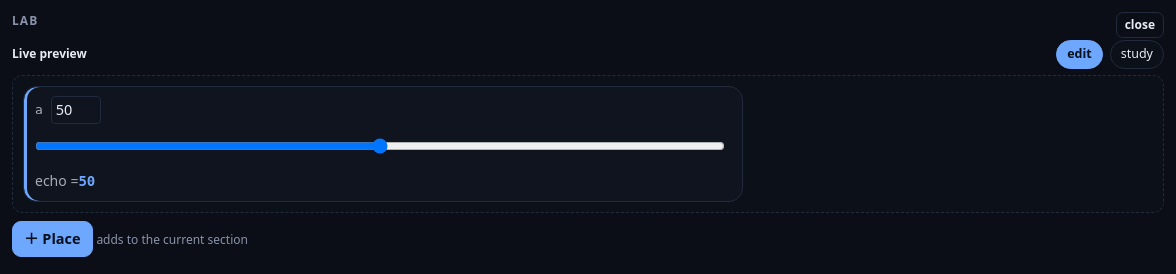
ProductDetail › the study preview is live: dragging a slider updates a dependent compute
Click the button "study": point(1137, 54) [1110, 40, 1164, 69]
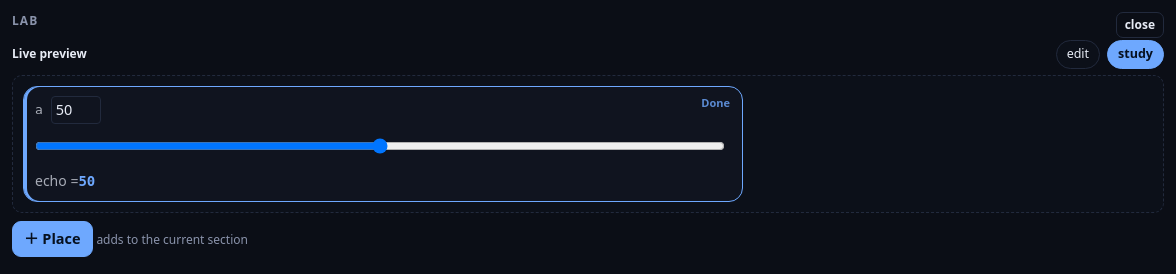
Expected: the text "50" is shown, [78, 172, 95, 188]
Set the slider to "80": point(582, 146) [35, 130, 725, 162]
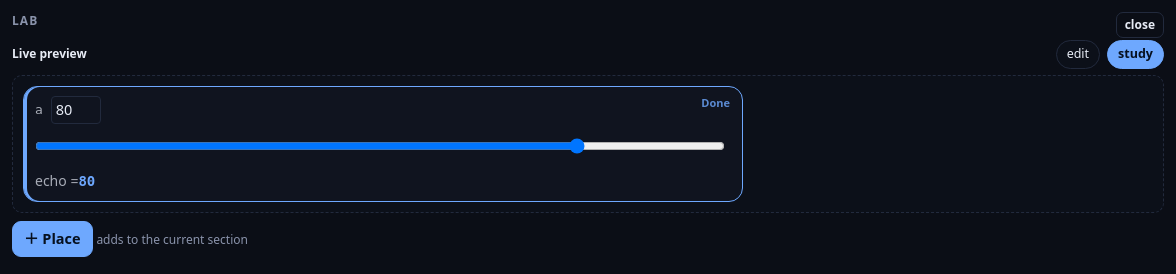
Expected: the text "80" is shown, [78, 172, 95, 188]
